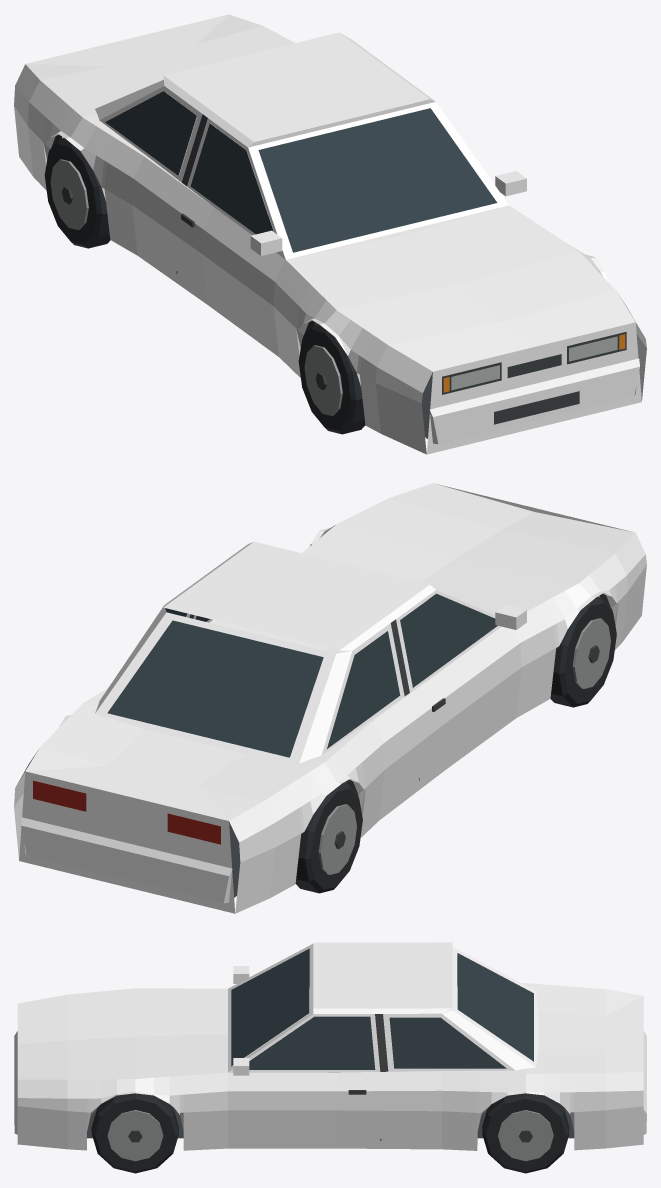
File: garrison_arroyo.glb
3 views of the same model, one above another, from view 1: azimuth 30°, elevation 25°; view 2: azimuth 150°, elevation 25°; view 3: azimuth 270°, elevation 25° (orthographic). The views are drawn at different scales.
Parts seen in each view (by area): view 1: garrison_arroyo; view 2: garrison_arroyo; view 3: garrison_arroyo.
Part boxes in pixels (box(x1,y1,x2,y2)): garrison_arroyo: box(14, 14, 646, 454); garrison_arroyo: box(14, 483, 646, 913); garrison_arroyo: box(14, 942, 646, 1173).
Bounding box in the file's own units: 1.82 × 1.22 × 4.7.
Materials: 8 (1 with a texture image).
